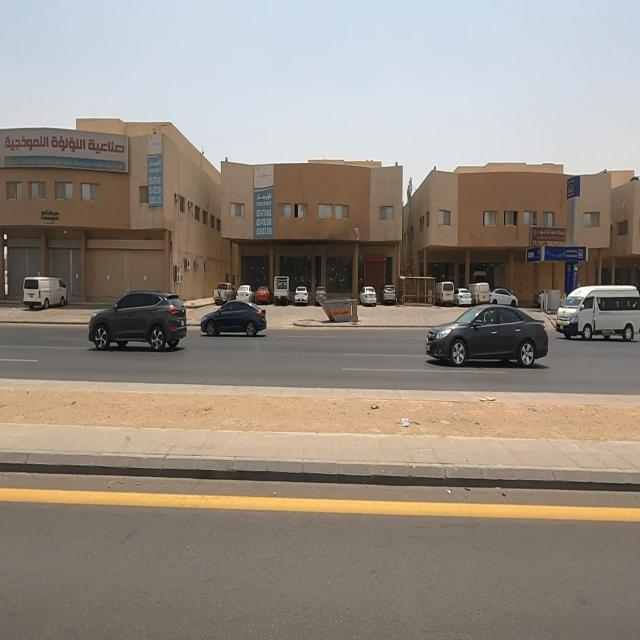debris: (381, 394, 426, 450)
